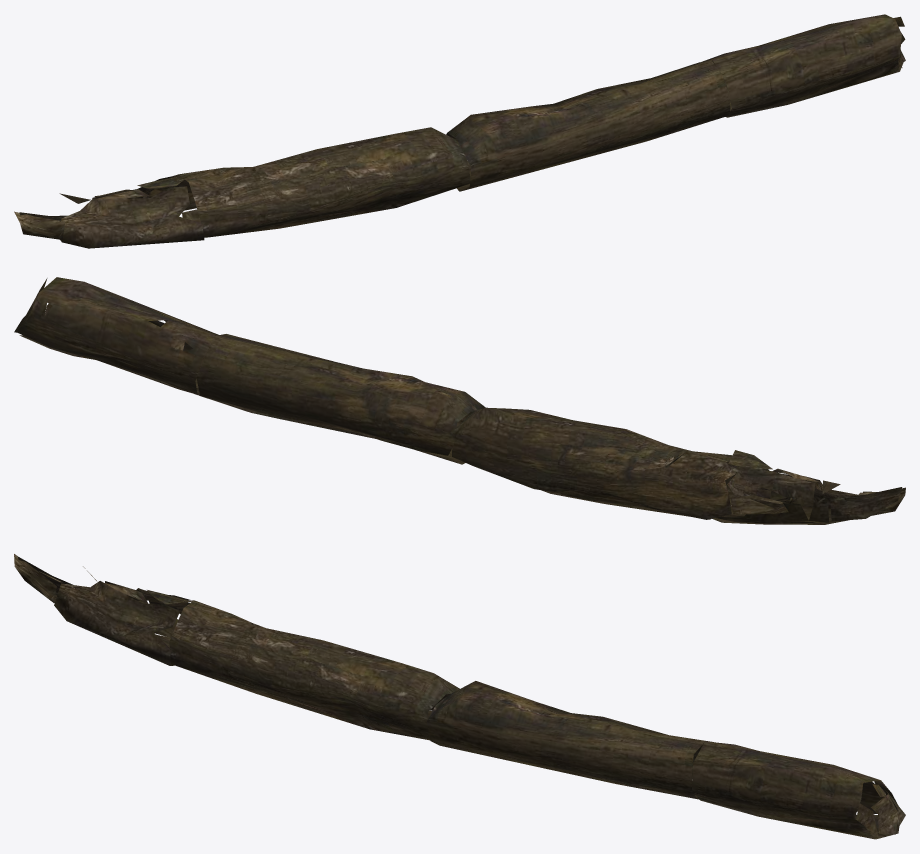
File: dead_tree_trunk.glb
The picture shows the model from 3 angles, top to bottom: view 1: azimuth 30°, elevation 25°; view 2: azimuth 150°, elevation 25°; view 3: azimuth 330°, elevation 25°; orthographic projection.
Parts seen in each view (by area): view 1: dead_tree_trunk; view 2: dead_tree_trunk; view 3: dead_tree_trunk.
Part boxes in pixels (box(x1,y1,x2,y2)): dead_tree_trunk: box(14, 14, 905, 248); dead_tree_trunk: box(14, 277, 905, 524); dead_tree_trunk: box(14, 554, 905, 839).
Bounding box in the file's own units: 3.04 × 0.2726 × 0.2751.
Materials: 1 (1 with a texture image).
